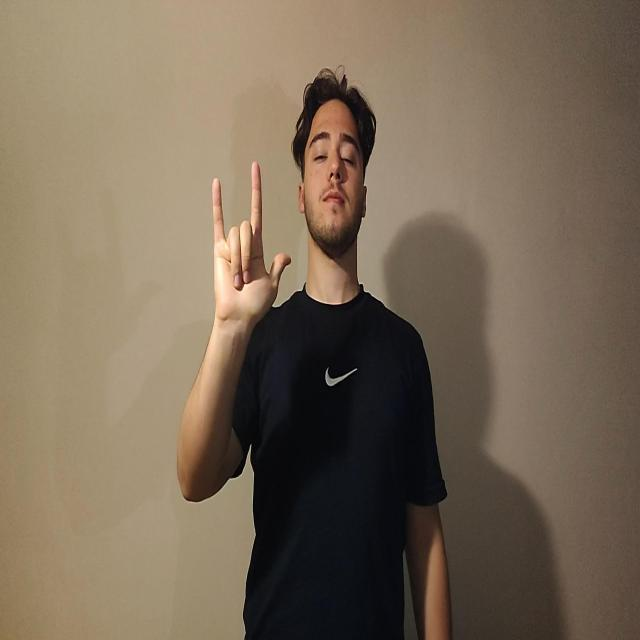iloveyou: (211, 159, 292, 332)
